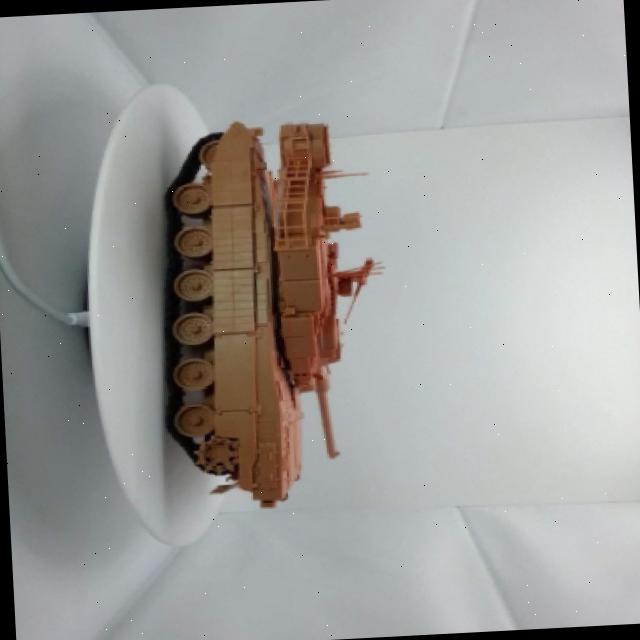korea tank: (132, 100, 406, 540)
